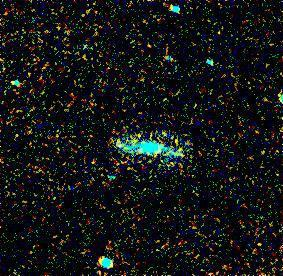star: (79, 147, 109, 177)
